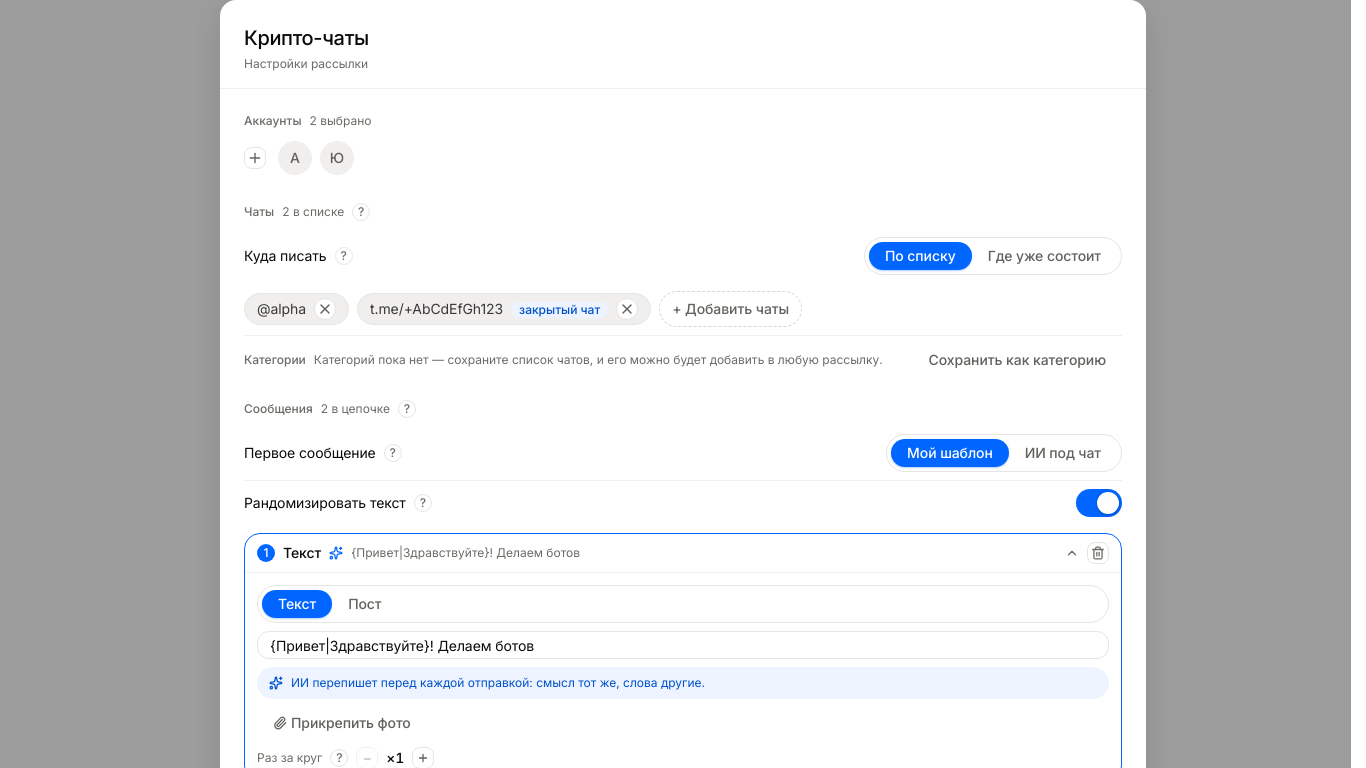
Test: saving the list as a category posts its name and chats
(page scrolled)
Expected: the text "Категорий пока нет" is shown, [314, 352, 883, 367]
Expected: the button "Управлять" is not shown
Click the button "Сохранить как категорию" at point(1017, 360), box [912, 344, 1122, 376]
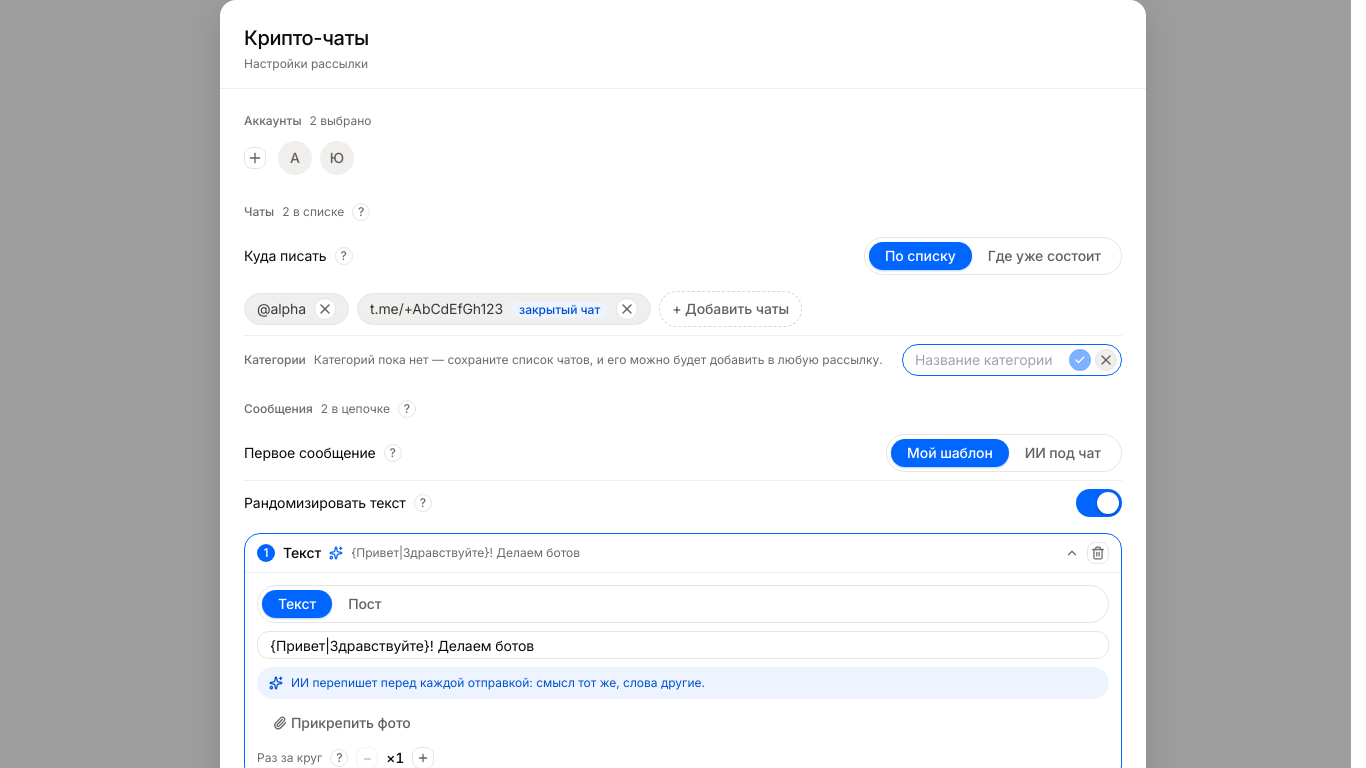
Type "Мои чаты" into the field labelled "Название категории" at point(990, 360), box [915, 350, 1065, 370]
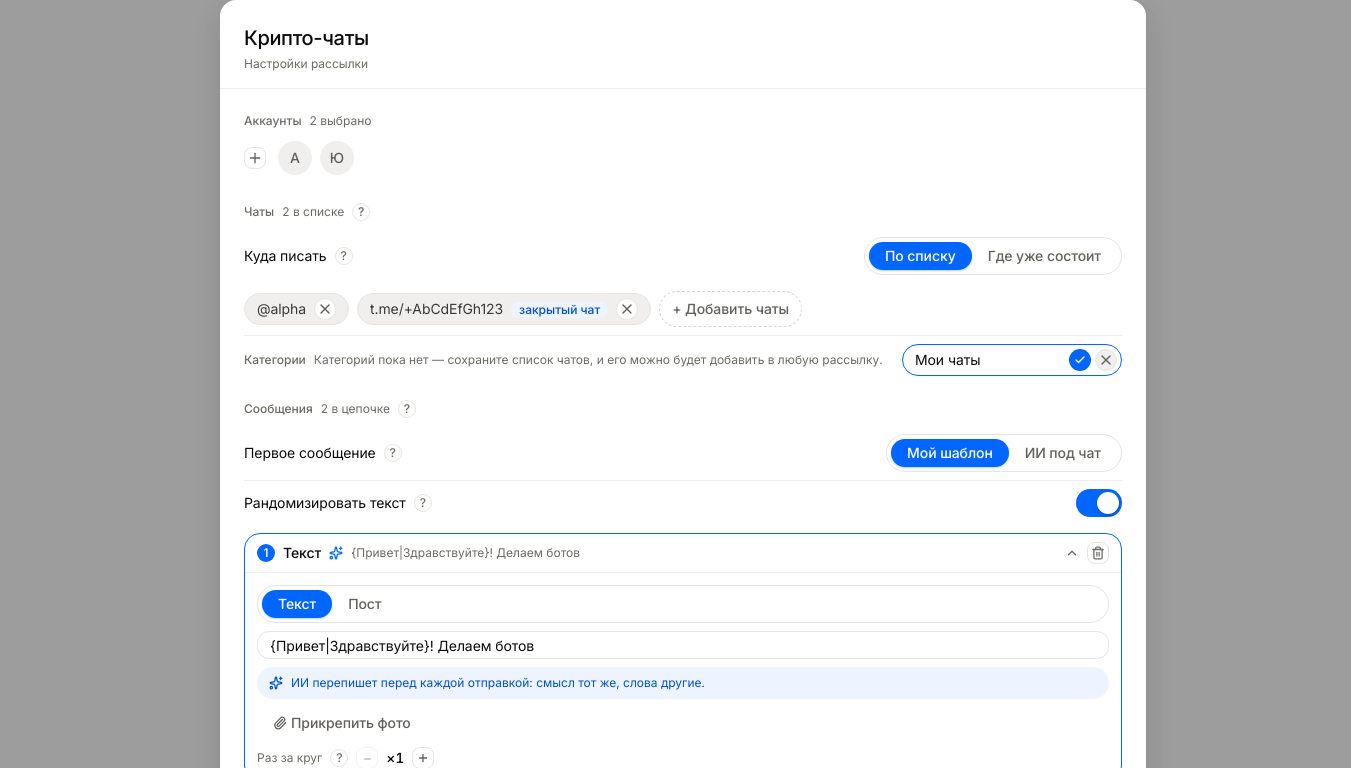
Click the button named "Сохранить категорию" at point(1080, 360), box [1069, 349, 1091, 371]
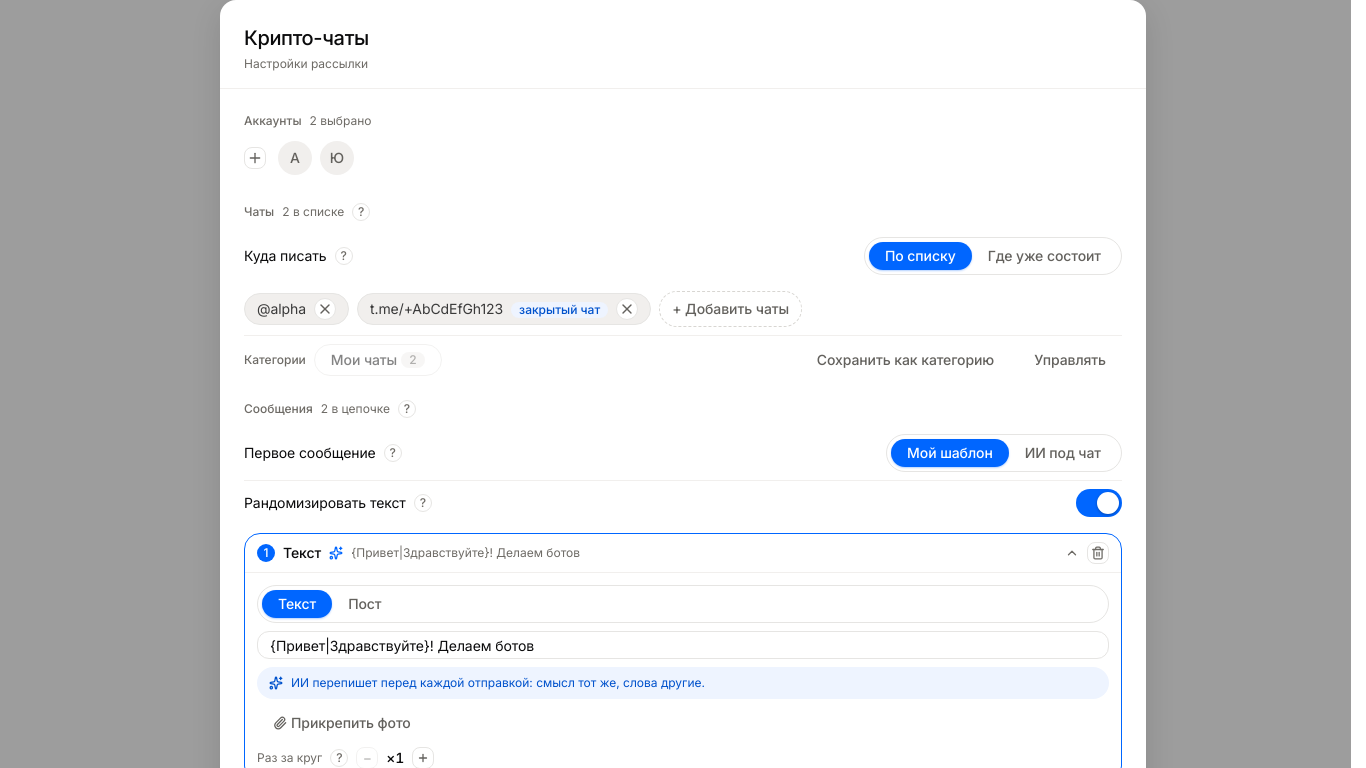
Expected: the field labelled "Название категории" is not shown
Result: the button with aria-label "Добавить в рассылку: Мои чаты" is shown at [314, 344, 442, 376]
